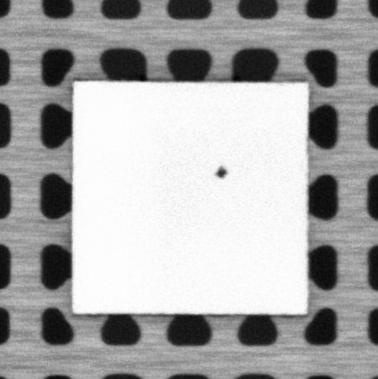DIE_INK: (213, 164, 229, 179)
